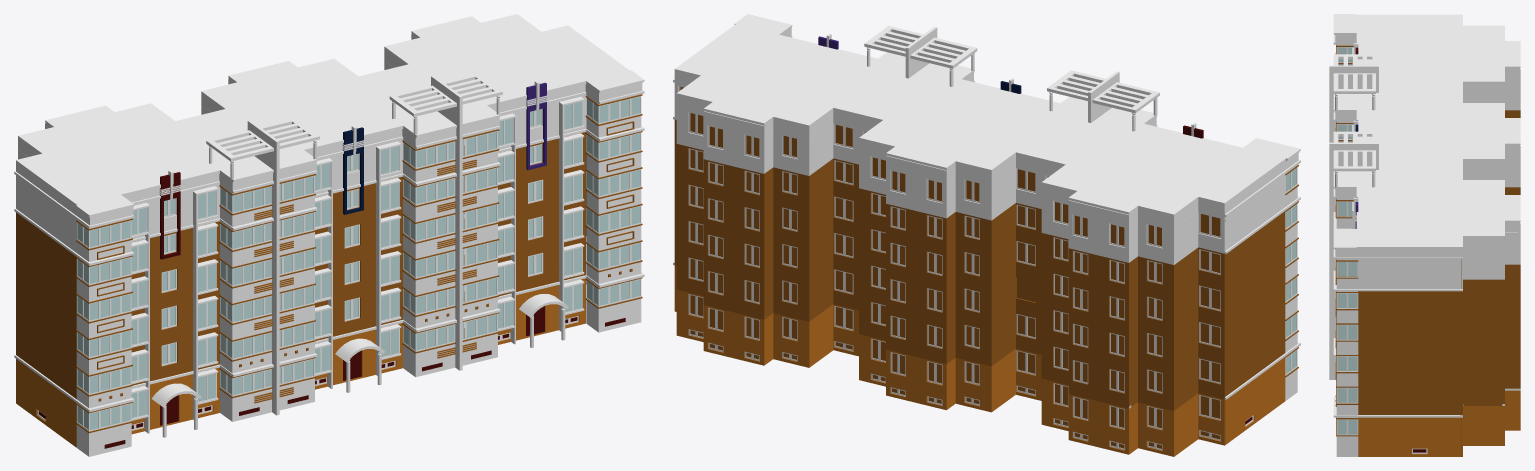
The model's file is flat.FBX.
3 views of the same model, side by side, from view 1: azimuth 30°, elevation 25°; view 2: azimuth 150°, elevation 25°; view 3: azimuth 270°, elevation 25° (orthographic). The views are drawn at different scales.
Parts seen in each view (by area): view 1: flat; view 2: flat; view 3: flat.
Part boxes in pixels (box(x1,y1,x2,y2)): flat: box(14, 14, 644, 456); flat: box(673, 14, 1300, 456); flat: box(1329, 14, 1520, 456).
Size of the model in its own units: 46080 by 21700 by 15962.
